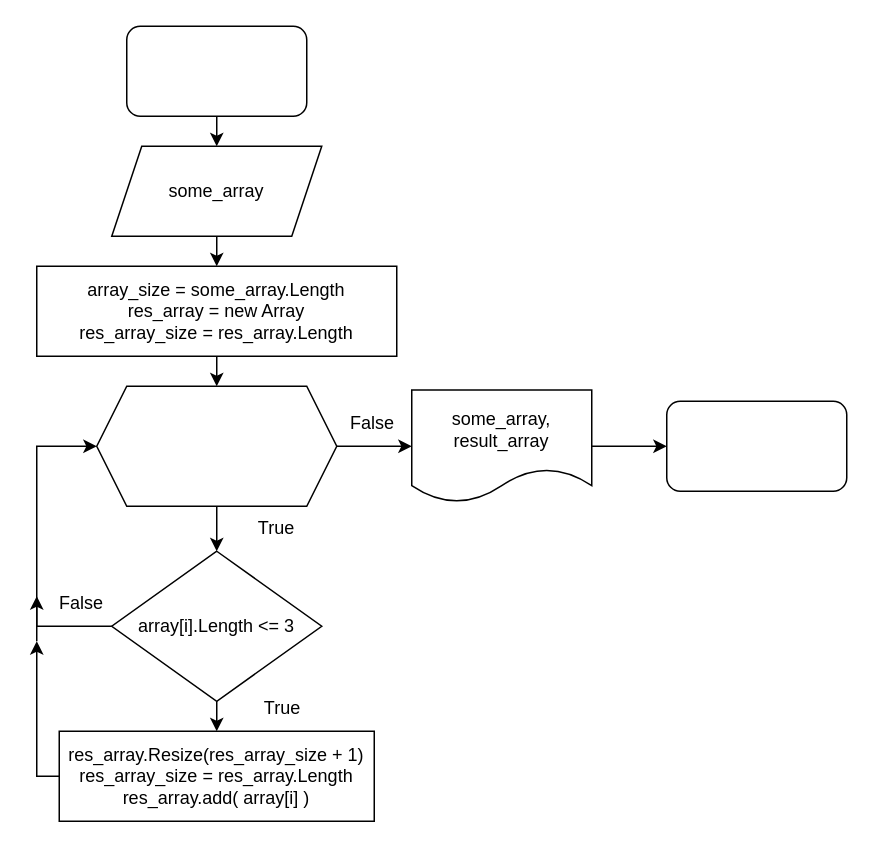
The diagram is 873 pixels wide and 848 high, and some of its shapes have lost their labels. The box of each missing label's shape, as (x1, y1, x2, y2) in pixels:
Finish: (665, 400, 847, 491)
i = 0; i < array_size; i++: (95, 385, 337, 506)
START: (125, 25, 307, 116)
